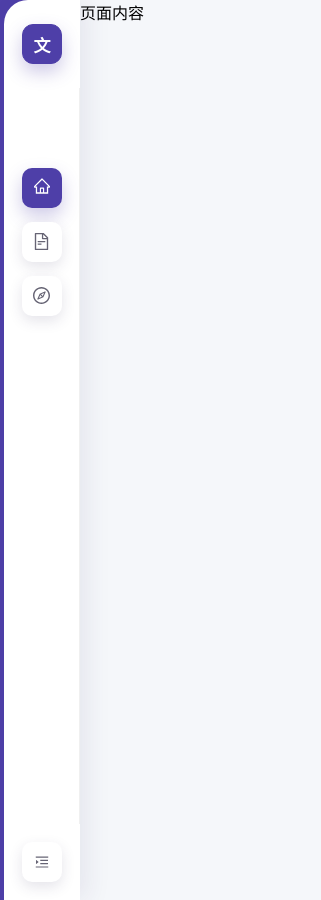
Test: platform shell navigation › 所有主要页面共用同一个平台侧栏
This screenshot has width=321, height=900.
Click the button named "展开导航" at (42, 862), box [22,842,62,882]
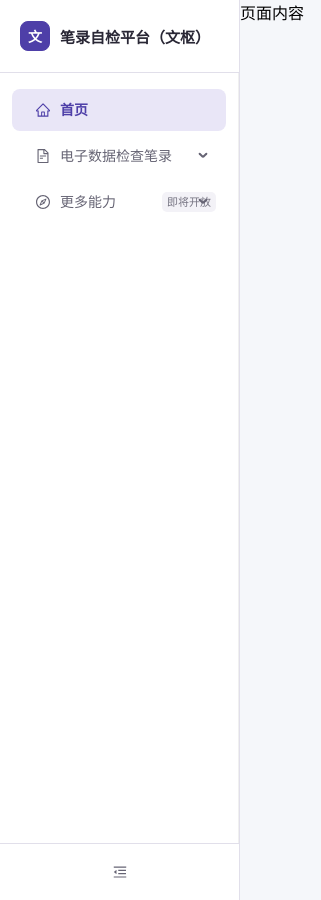
Expected: the button named "收起导航" is shown, [12,856,227,888]
